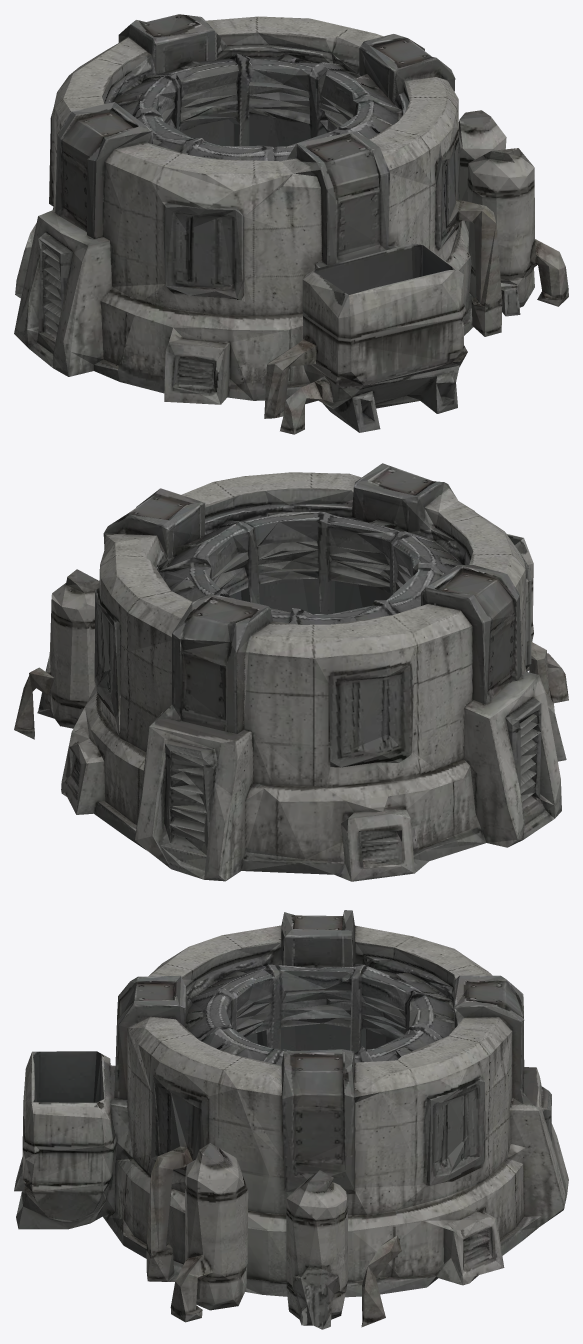
File: sink.core.l1.glb
The picture shows the model from 3 angles, top to bottom: view 1: azimuth 30°, elevation 25°; view 2: azimuth 150°, elevation 25°; view 3: azimuth 270°, elevation 25°; orthographic projection. The views are drawn at different scales.
Parts seen in each view (by area): view 1: body; view 2: body; view 3: body.
Part boxes in pixels (left/top/right/bottom): body: left=14, top=14, right=568, bottom=434; body: left=14, top=463, right=568, bottom=881; body: left=14, top=910, right=568, bottom=1329.
Size of the model in its own units: 2.32 by 1.03 by 2.39.
Materials: 1 (1 with a texture image).
